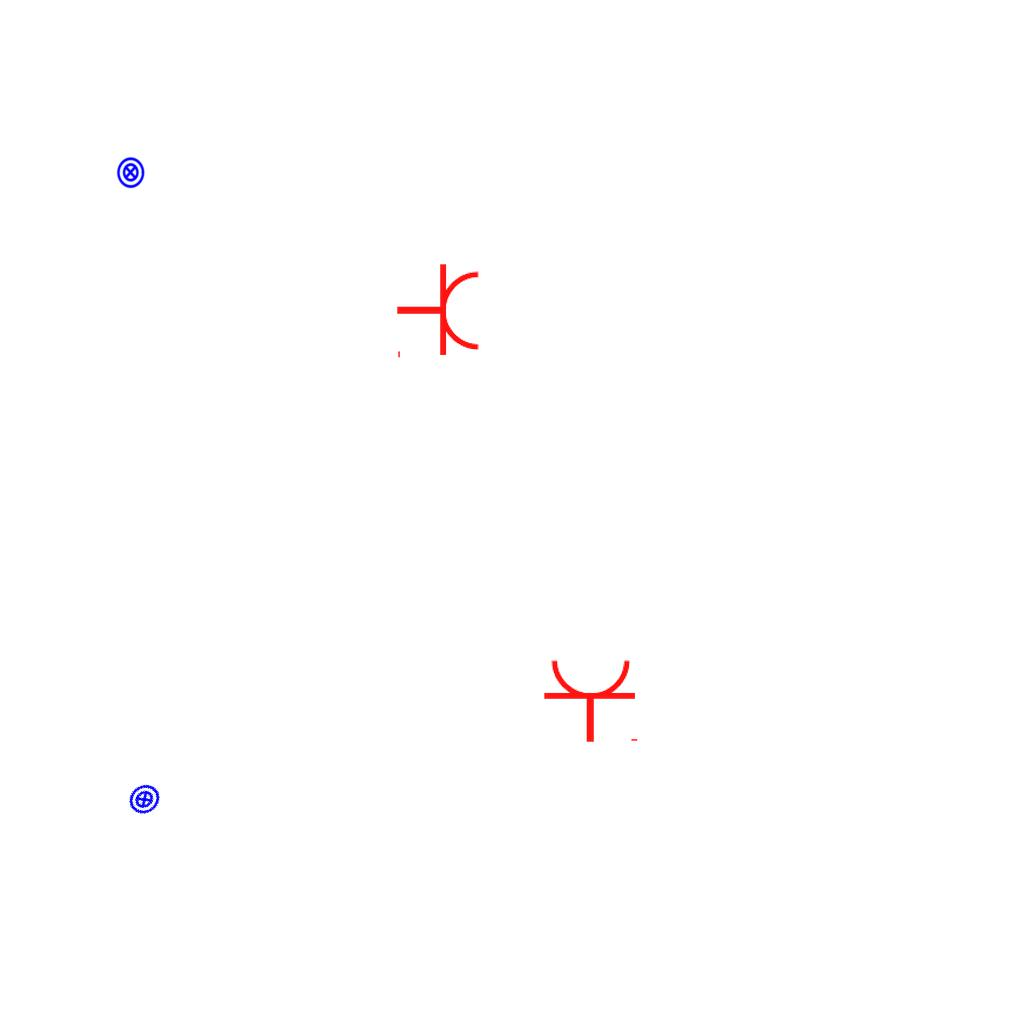Schukosteckdose_einfach: (395, 262, 482, 362), (542, 657, 642, 744)
Taster_beleuchtet: (121, 776, 168, 823), (114, 156, 147, 189)
